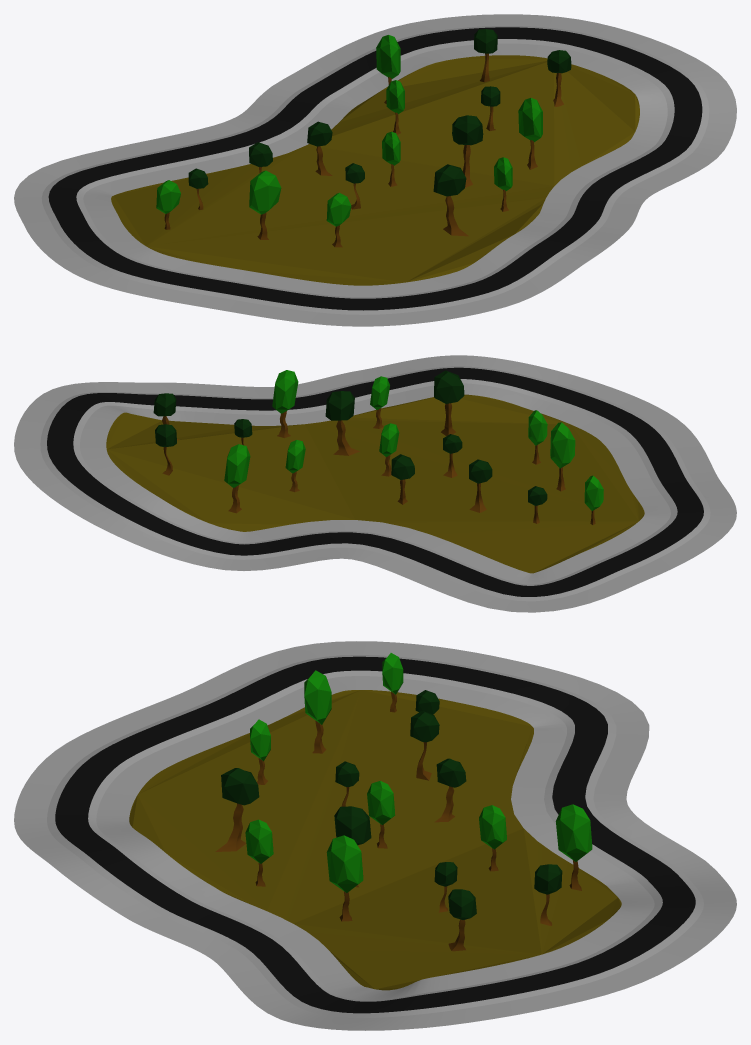
Rendered from raceTrack.obj.
3 views of the same model, one above another, from view 1: azimuth 30°, elevation 25°; view 2: azimuth 150°, elevation 25°; view 3: azimuth 270°, elevation 25° (orthographic). The views are drawn at different scales.
Visible parts, largest first — view 1: Loft001_Mesh.003, GeoSphere005_Mesh.003, GeoSphere003_Mesh.003, GeoSphere012_Mesh.003, GeoSphere016_Mesh.003, GeoSphere009_Mesh.003, GeoSphere006_Mesh.003, GeoSphere007_Mesh.003, GeoSphere014_Mesh.003, GeoSphere001_Mesh.003, GeoSphere008_Mesh.003, GeoSphere017_Mesh.003 (+3 smaller); view 2: Loft001_Mesh.003, GeoSphere012_Mesh.003, GeoSphere005_Mesh.003, GeoSphere009_Mesh.003, GeoSphere016_Mesh.003, GeoSphere003_Mesh.003, GeoSphere002_Mesh.003, GeoSphere007_Mesh.003, GeoSphere017_Mesh.003, GeoSphere006_Mesh.003, GeoSphere011_Mesh.003, GeoSphere015_Mesh.003 (+4 smaller); view 3: Loft001_Mesh.003, GeoSphere016_Mesh.003, GeoSphere009_Mesh.003, GeoSphere005_Mesh.003, GeoSphere003_Mesh.003, GeoSphere017_Mesh.003, GeoSphere012_Mesh.003, GeoSphere015_Mesh.003, GeoSphere011_Mesh.003, GeoSphere001_Mesh.003, GeoSphere007_Mesh.003, GeoSphere002_Mesh.003 (+3 smaller).
Boxes of the visible parts, x1=… form: Loft001_Mesh.003: x1=14, y1=14, x2=736, y2=326; GeoSphere005_Mesh.003: x1=433, y1=164, x2=468, y2=236; GeoSphere003_Mesh.003: x1=249, y1=170, x2=281, y2=239; GeoSphere012_Mesh.003: x1=452, y1=115, x2=483, y2=187; GeoSphere016_Mesh.003: x1=518, y1=98, x2=542, y2=169; GeoSphere009_Mesh.003: x1=376, y1=35, x2=400, y2=103; GeoSphere006_Mesh.003: x1=326, y1=192, x2=351, y2=247; GeoSphere007_Mesh.003: x1=307, y1=121, x2=332, y2=175; GeoSphere014_Mesh.003: x1=156, y1=180, x2=180, y2=229; GeoSphere001_Mesh.003: x1=547, y1=50, x2=571, y2=106; GeoSphere008_Mesh.003: x1=474, y1=29, x2=497, y2=82; GeoSphere017_Mesh.003: x1=382, y1=131, x2=400, y2=186; Loft001_Mesh.003: x1=14, y1=355, x2=736, y2=612; GeoSphere012_Mesh.003: x1=325, y1=391, x2=359, y2=455; GeoSphere005_Mesh.003: x1=434, y1=370, x2=464, y2=435; GeoSphere009_Mesh.003: x1=224, y1=444, x2=250, y2=513; GeoSphere016_Mesh.003: x1=272, y1=370, x2=298, y2=437; GeoSphere003_Mesh.003: x1=550, y1=422, x2=575, y2=491; GeoSphere002_Mesh.003: x1=469, y1=459, x2=492, y2=512; GeoSphere007_Mesh.003: x1=391, y1=454, x2=414, y2=504; GeoSphere017_Mesh.003: x1=379, y1=423, x2=399, y2=476; GeoSphere006_Mesh.003: x1=528, y1=410, x2=547, y2=464; GeoSphere011_Mesh.003: x1=285, y1=440, x2=305, y2=492; GeoSphere015_Mesh.003: x1=370, y1=376, x2=389, y2=428; Loft001_Mesh.003: x1=14, y1=641, x2=736, y2=1030; GeoSphere016_Mesh.003: x1=326, y1=835, x2=363, y2=921; GeoSphere009_Mesh.003: x1=555, y1=804, x2=592, y2=890; GeoSphere005_Mesh.003: x1=215, y1=768, x2=259, y2=851; GeoSphere003_Mesh.003: x1=304, y1=670, x2=331, y2=753; GeoSphere017_Mesh.003: x1=367, y1=781, x2=395, y2=848; GeoSphere012_Mesh.003: x1=334, y1=806, x2=371, y2=887; GeoSphere015_Mesh.003: x1=245, y1=819, x2=273, y2=886; GeoSphere011_Mesh.003: x1=479, y1=805, x2=506, y2=871; GeoSphere001_Mesh.003: x1=448, y1=889, x2=476, y2=951; GeoSphere007_Mesh.003: x1=434, y1=758, x2=466, y2=822; GeoSphere002_Mesh.003: x1=410, y1=711, x2=439, y2=780.
Size of the model in its own units: 114 by 12.61 by 87.88.
